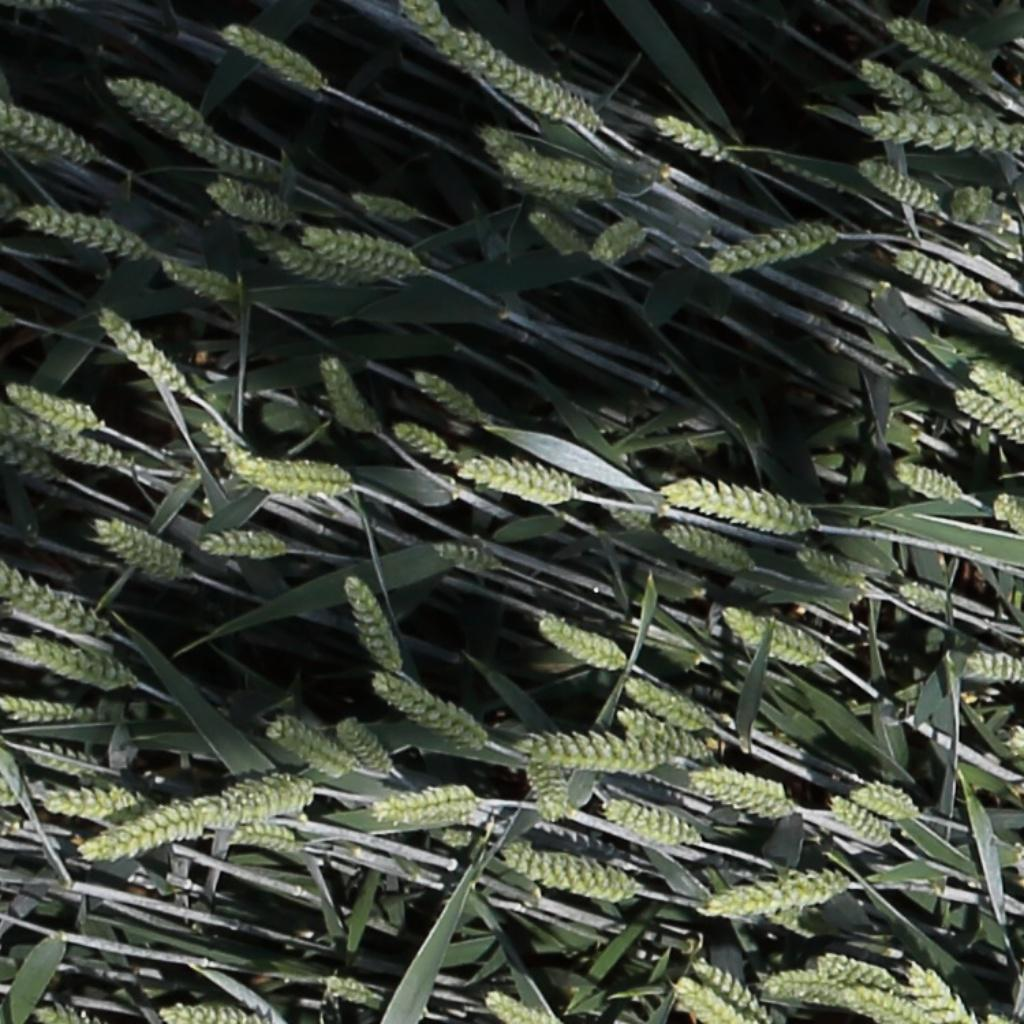0-0: (458, 28, 596, 128), (659, 464, 820, 538), (473, 115, 569, 210), (80, 794, 221, 858), (861, 110, 1024, 165), (94, 305, 191, 397), (697, 869, 861, 923), (368, 674, 483, 746), (514, 728, 673, 778), (300, 225, 430, 282), (703, 222, 835, 278), (0, 566, 105, 636), (400, 0, 486, 84), (338, 570, 402, 679), (187, 769, 321, 821), (502, 846, 631, 899), (681, 762, 800, 819), (197, 412, 274, 499), (15, 204, 146, 255), (0, 413, 124, 466), (219, 23, 320, 87), (757, 962, 879, 1013), (165, 122, 271, 180), (887, 17, 988, 76), (368, 782, 498, 827), (235, 451, 347, 503), (13, 640, 132, 688), (314, 350, 378, 438), (109, 75, 206, 133), (0, 99, 92, 158), (722, 610, 821, 664), (263, 239, 358, 292), (600, 797, 701, 846), (617, 707, 707, 761), (689, 958, 768, 1019), (457, 458, 573, 499), (264, 720, 350, 774), (618, 692, 707, 744), (536, 618, 623, 671), (857, 57, 932, 117), (897, 249, 985, 300), (90, 521, 176, 572), (622, 681, 709, 731), (858, 155, 940, 208), (501, 152, 611, 191), (4, 383, 95, 430), (331, 715, 393, 782), (203, 819, 306, 859), (29, 736, 111, 785), (953, 387, 1024, 443), (903, 958, 965, 1022), (410, 370, 483, 424), (662, 525, 750, 569), (940, 177, 1011, 231), (203, 181, 292, 222), (969, 364, 1024, 428), (521, 752, 573, 819), (653, 111, 727, 158), (827, 797, 890, 850), (43, 781, 140, 815), (390, 420, 461, 466), (850, 774, 918, 821), (816, 954, 897, 992), (764, 867, 812, 931), (196, 530, 289, 563), (671, 978, 733, 1024), (525, 207, 584, 255), (158, 259, 230, 297), (0, 435, 57, 483), (892, 462, 962, 501), (845, 988, 925, 1022), (602, 494, 657, 538), (795, 548, 862, 584), (2, 700, 99, 723), (589, 218, 644, 258), (481, 991, 544, 1024), (348, 188, 415, 218), (428, 544, 498, 572), (897, 581, 957, 611), (155, 1008, 260, 1024), (319, 977, 376, 1004), (963, 656, 1024, 681), (1004, 315, 1024, 387), (34, 1006, 94, 1024), (1003, 503, 1024, 537), (1010, 733, 1024, 772)
